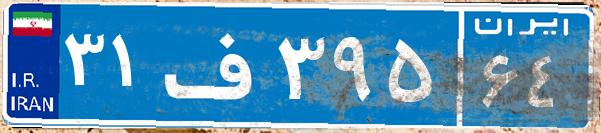1: (110, 28, 158, 105)
3: (273, 28, 330, 110), (57, 26, 110, 107)
4: (525, 38, 570, 115)
5: (385, 28, 445, 110)
6: (475, 38, 525, 113)
9: (330, 28, 385, 110)
ف: (158, 15, 273, 115)
